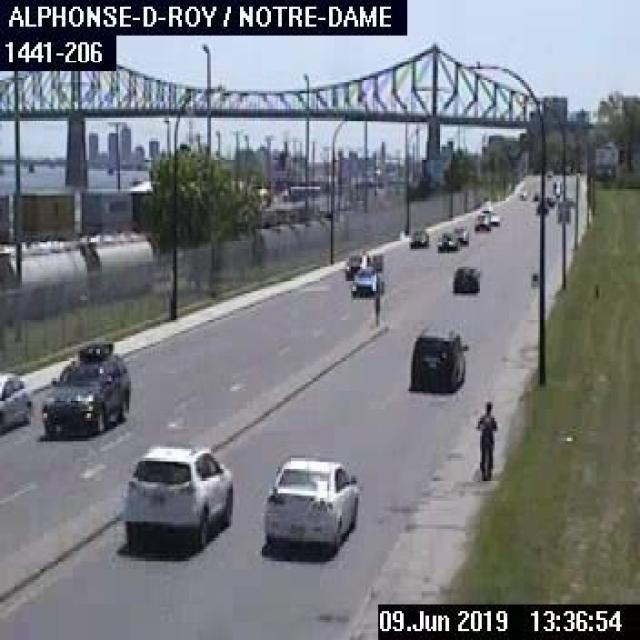pedestrian: (475, 396, 498, 480)
vehicle: (118, 440, 231, 547), (258, 451, 358, 553), (38, 336, 129, 437), (407, 322, 469, 387), (0, 367, 31, 433), (346, 264, 384, 296), (449, 262, 480, 291), (339, 248, 368, 274), (434, 230, 458, 251), (409, 226, 427, 246), (473, 207, 489, 229), (450, 225, 468, 243)
